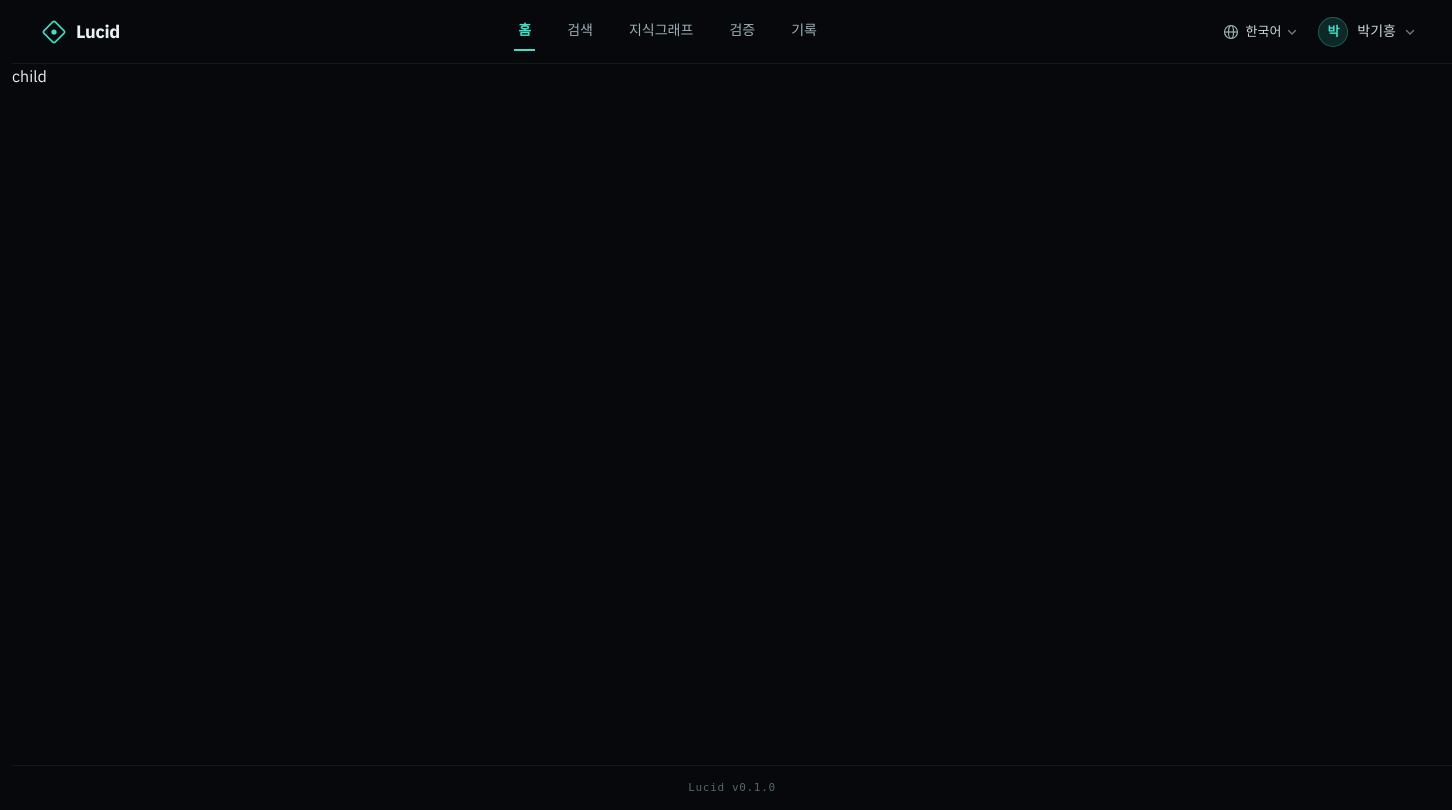
it: AppShell › profile menu opens on click and closes on outside mousedown
The image size is (1452, 810).
Click the button with test id "app-shell-profile-trigger".
click(1367, 32)  # box [1311,12,1422,52]
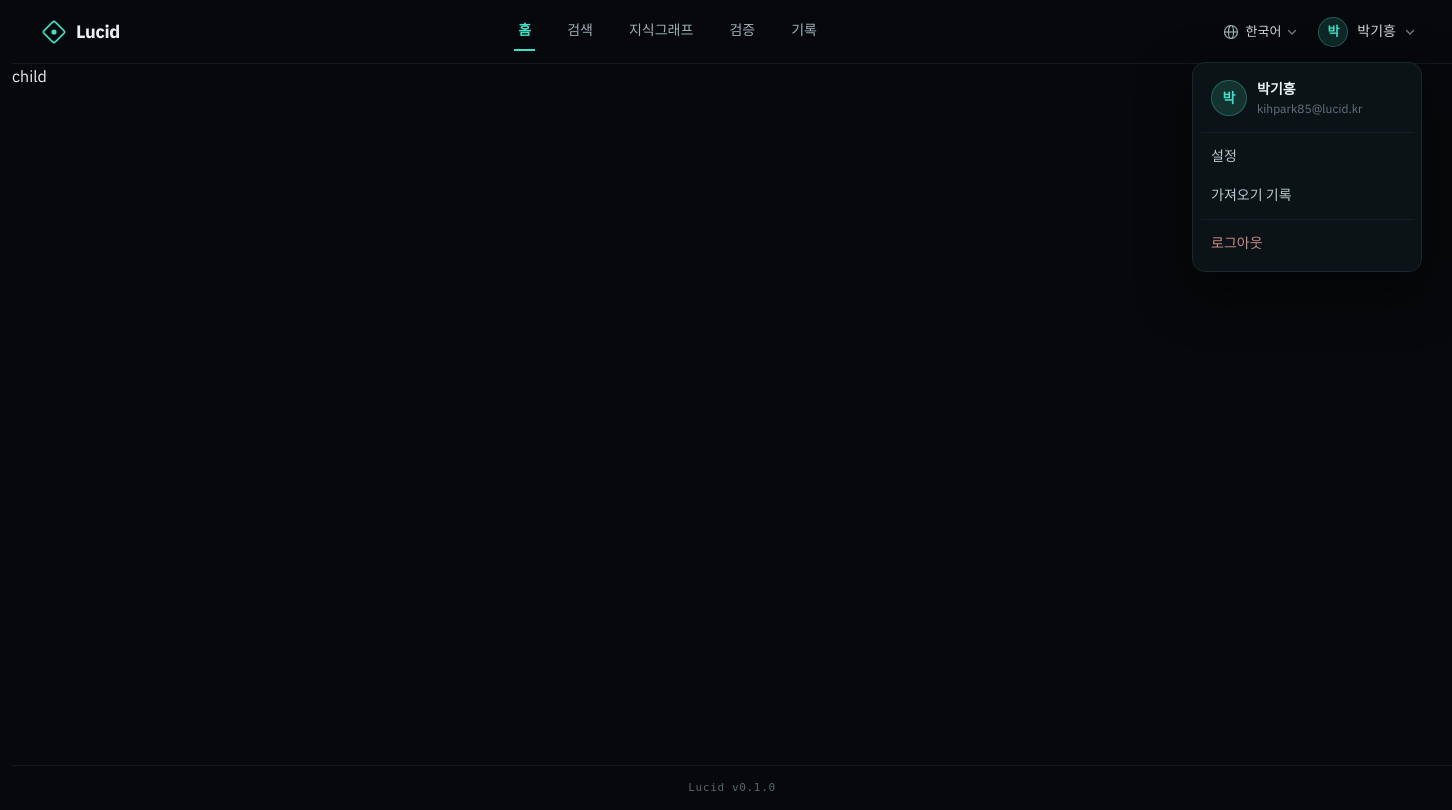
Expected: the menu with test id "app-shell-profile-menu" is shown, [1192,62,1422,272]
Press the mouse on the element that starts with "Lucid" at [732, 405], box [12,0,1451,809]
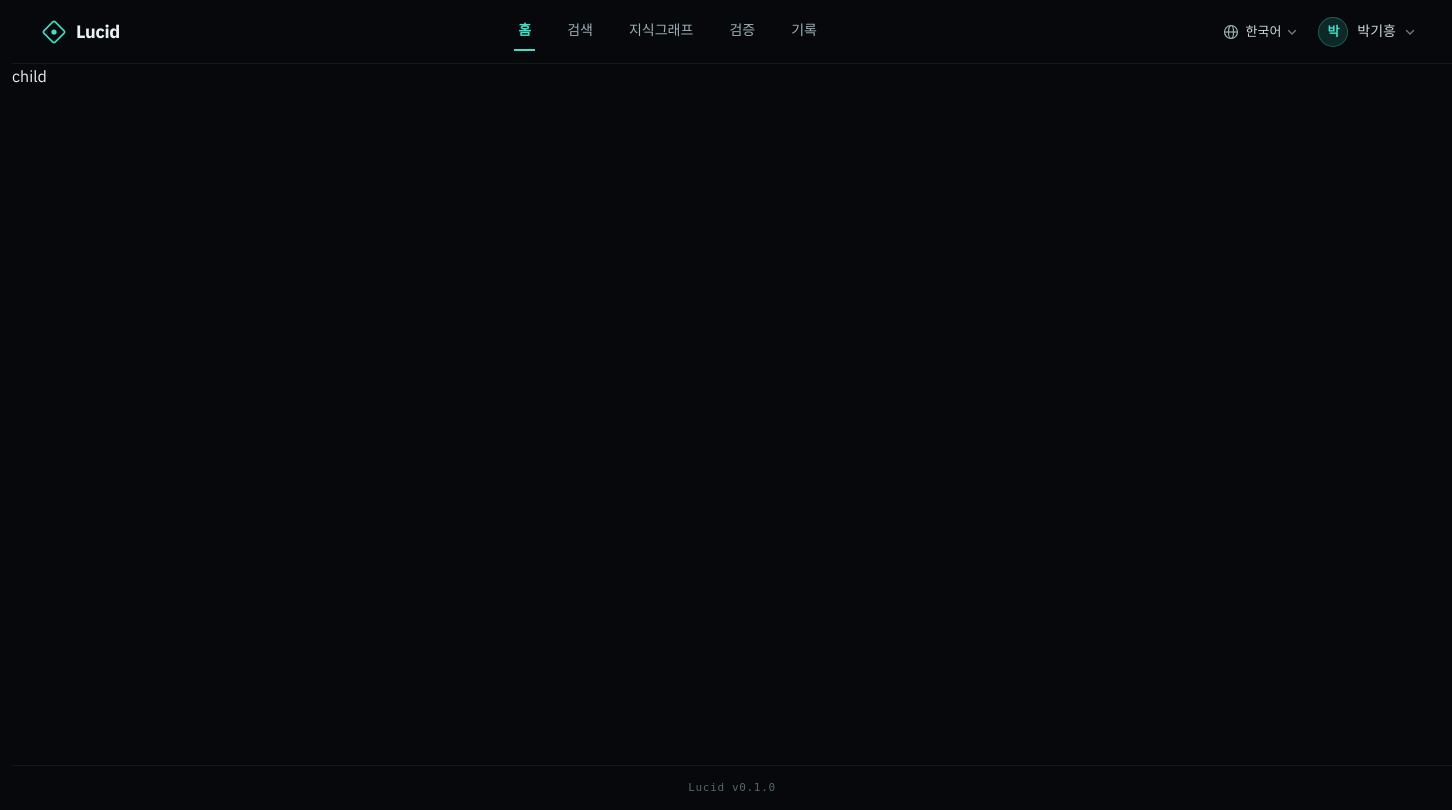
Expected: the menu with test id "app-shell-profile-menu" is gone
